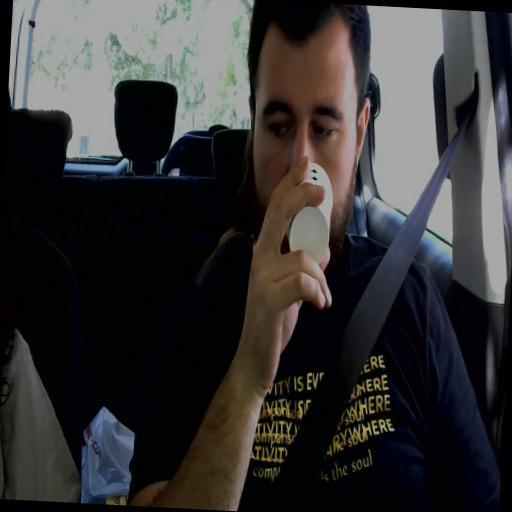Drinking: (249, 15, 369, 275)
